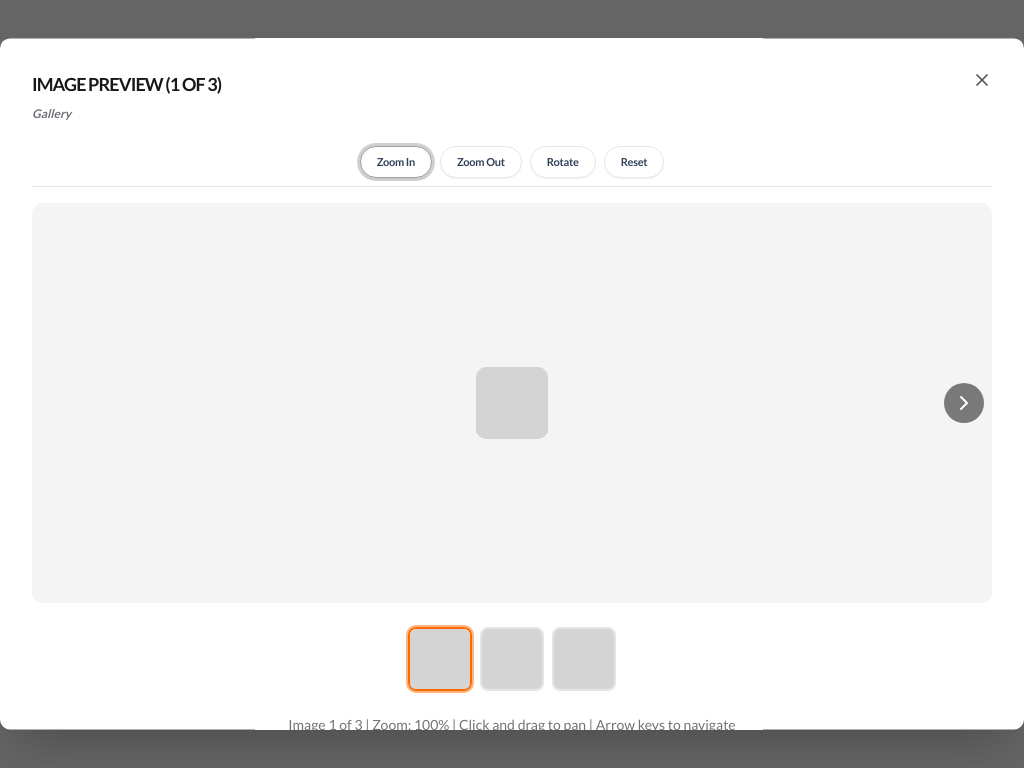
it: MultiImagePreviewModal › increases the zoom percentage when Zoom In is clicked
Check: the text "Zoom: 100%" is shown, box [288, 716, 736, 730]
What coordinates should you click on to do the following:
click the button "Zoom In"
I would click on:
 (396, 162)
Its box is [360, 146, 432, 178].
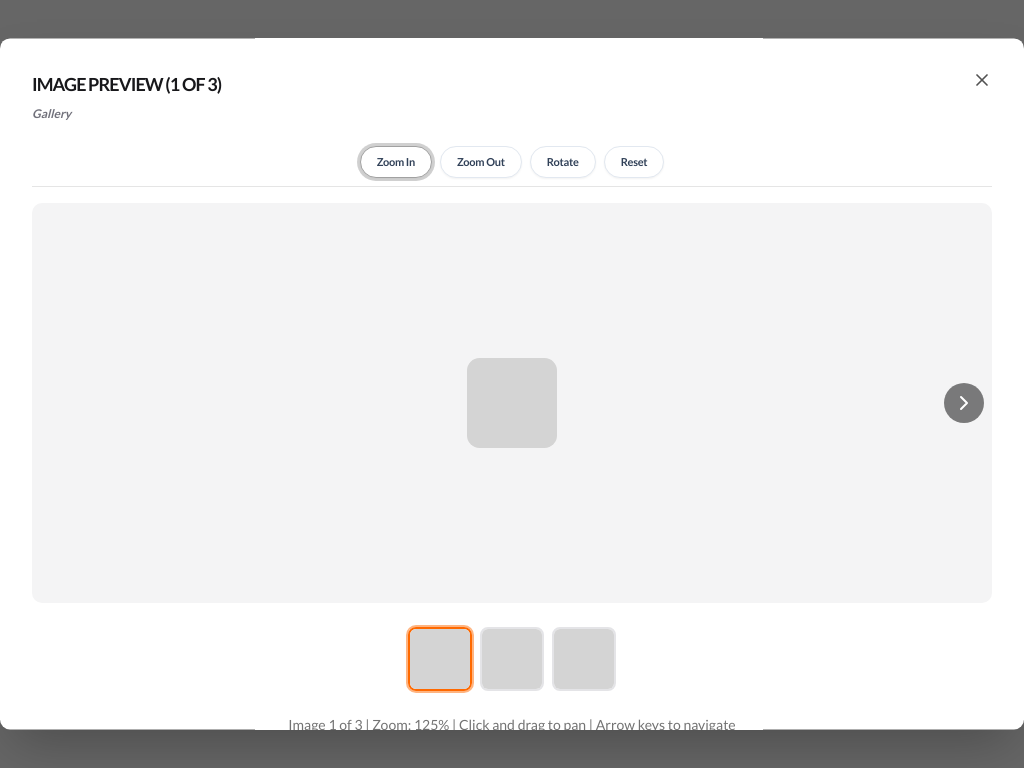
Check: the text "Zoom: 125%" is shown, box [288, 716, 736, 730]
